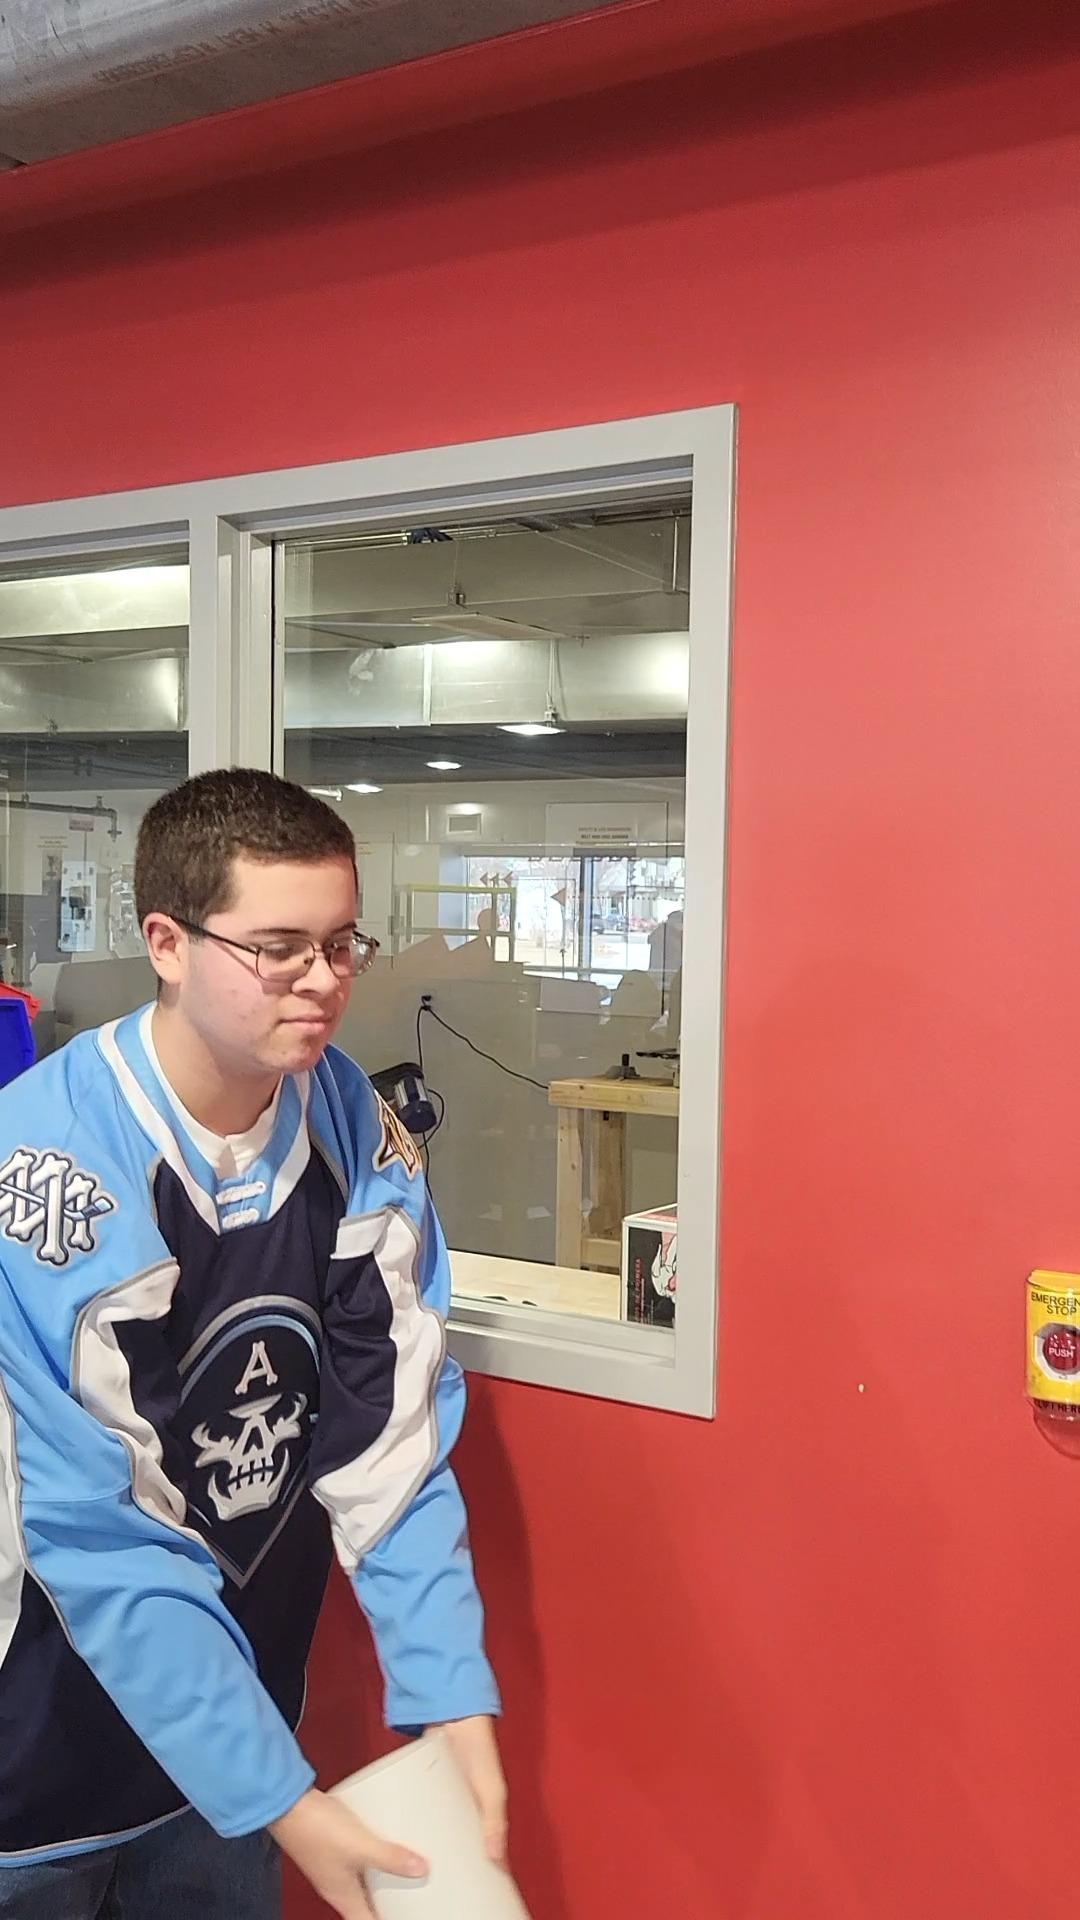coral: (327, 1726, 547, 1920)
